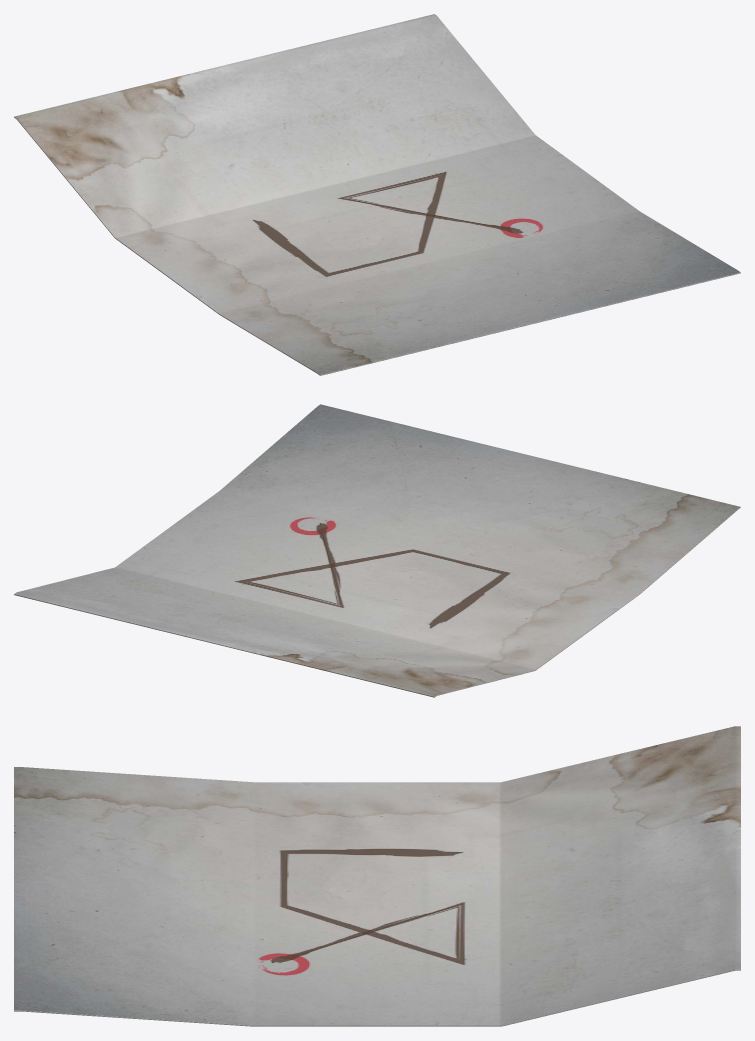
File: Door Code Paper.fbx
3 views of the same model, one above another, from view 1: azimuth 30°, elevation 25°; view 2: azimuth 150°, elevation 25°; view 3: azimuth 270°, elevation 25° (orthographic). The views are drawn at different scales.
Parts seen in each view (by area): view 1: paper; view 2: paper; view 3: paper.
Boxes of the visible parts, bbox=[...] form: paper: bbox=[14, 14, 740, 375]; paper: bbox=[14, 404, 740, 697]; paper: bbox=[14, 726, 740, 1026].
Size of the model in its own units: 9.64 by 1.05 by 12.16.
